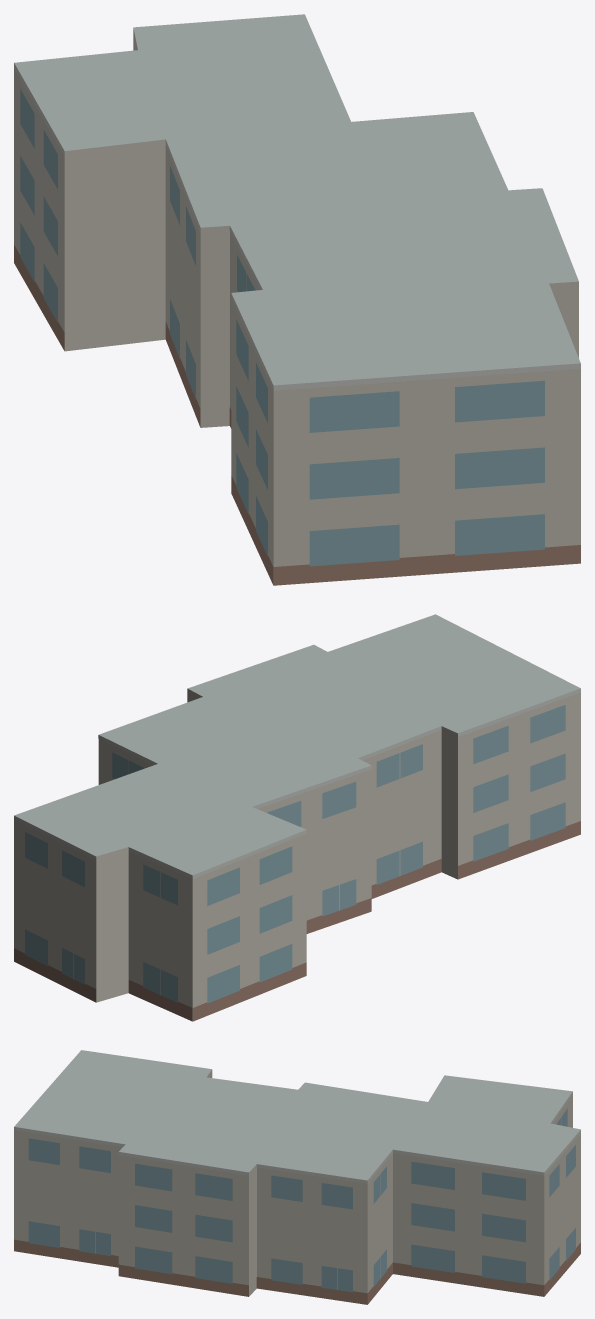
Rendered from survey-upis-32693866.glb.
3 renders of one model, top to bottom at view 1: azimuth 30°, elevation 25°; view 2: azimuth 150°, elevation 25°; view 3: azimuth 270°, elevation 25°, orthographic. The views are drawn at different scales.
Parts seen in each view (by area): view 1: survey-upis-32693866.tmp; view 2: survey-upis-32693866.tmp; view 3: survey-upis-32693866.tmp.
Boxes of the visible parts, <box> form: survey-upis-32693866.tmp: <box>14,14,580,585</box>; survey-upis-32693866.tmp: <box>14,614,580,1021</box>; survey-upis-32693866.tmp: <box>14,1050,580,1304</box>.
Size of the model in its own units: 20.59 by 9.15 by 37.79.
